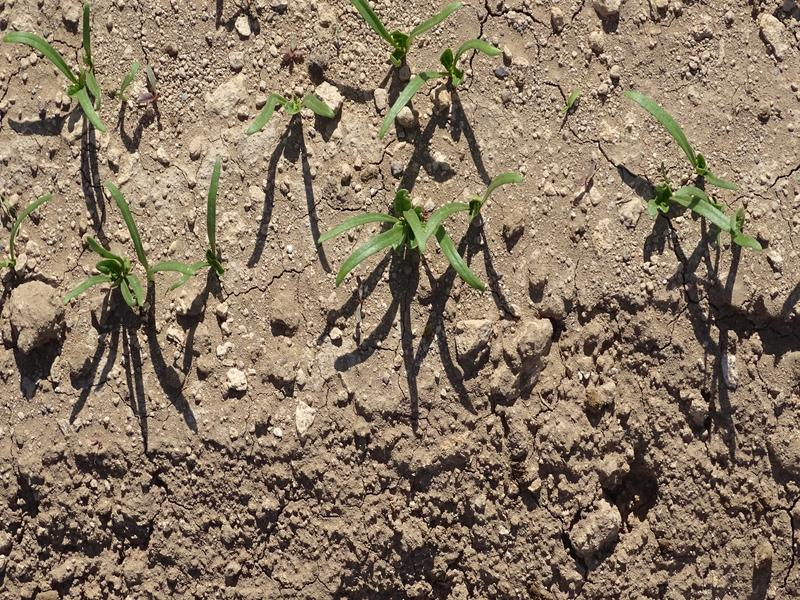Espinaca: (614, 84, 766, 254), (67, 161, 234, 315), (314, 174, 518, 294), (351, 1, 499, 137), (6, 6, 135, 141), (246, 89, 335, 130), (8, 189, 55, 263)
